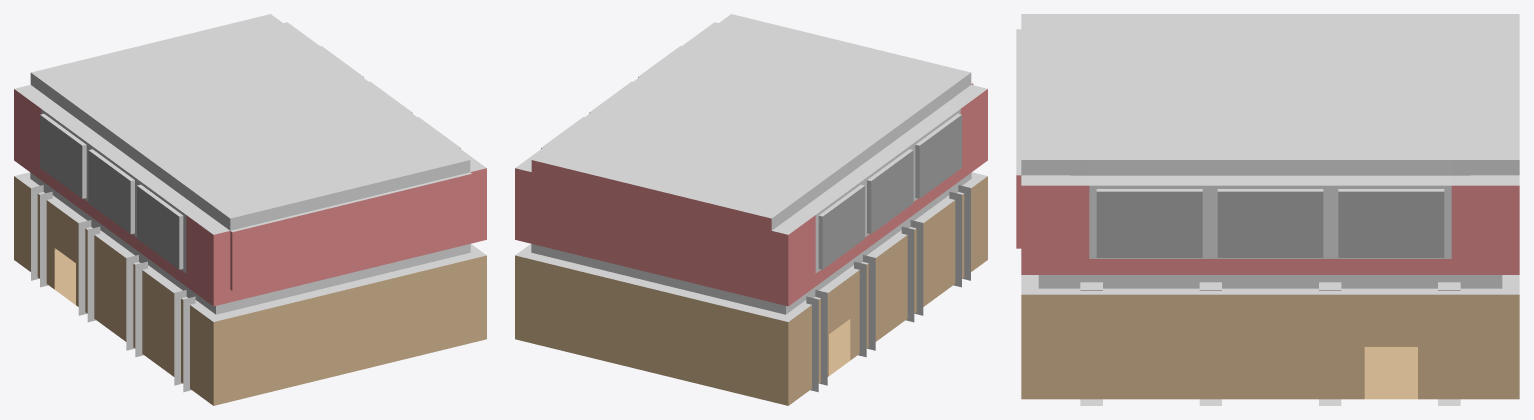
Rendered from AuditoriumStandalone.fbx.
3 views of the same model, side by side, from view 1: azimuth 30°, elevation 25°; view 2: azimuth 150°, elevation 25°; view 3: azimuth 270°, elevation 25° (orthographic). The views are drawn at different scales.
Parts seen in each view (by area): view 1: Cube; view 2: Cube; view 3: Cube.
Part boxes in pixels (left/top/right/bottom): Cube: left=14, top=14, right=486, bottom=405; Cube: left=515, top=14, right=987, bottom=405; Cube: left=1016, top=14, right=1519, bottom=405.
Bounding box in the file's own units: 1389 × 857 × 1688.
